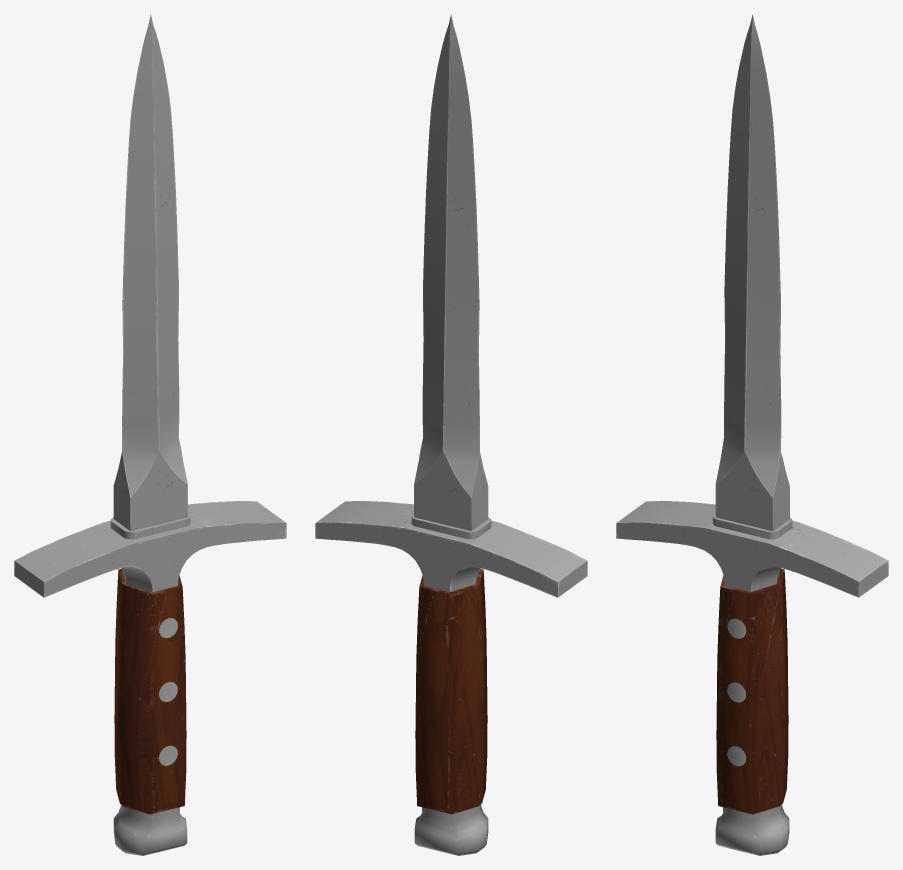
The model's file is dagger_lod0.glb.
3 renders of one model, left to right at view 1: azimuth 30°, elevation 25°; view 2: azimuth 150°, elevation 25°; view 3: azimuth 330°, elevation 25°, orthographic.
Parts seen in each view (by area): view 1: Dagger_LOD0_temp; view 2: Dagger_LOD0_temp; view 3: Dagger_LOD0_temp.
Part boxes in pixels (x1,y1,x2,y2): Dagger_LOD0_temp: (14,14,286,855); Dagger_LOD0_temp: (315,14,587,855); Dagger_LOD0_temp: (616,14,888,855).
Size of the model in its own units: 0.1537 by 0.5024 by 0.0372.
1 material, 1 textured.
